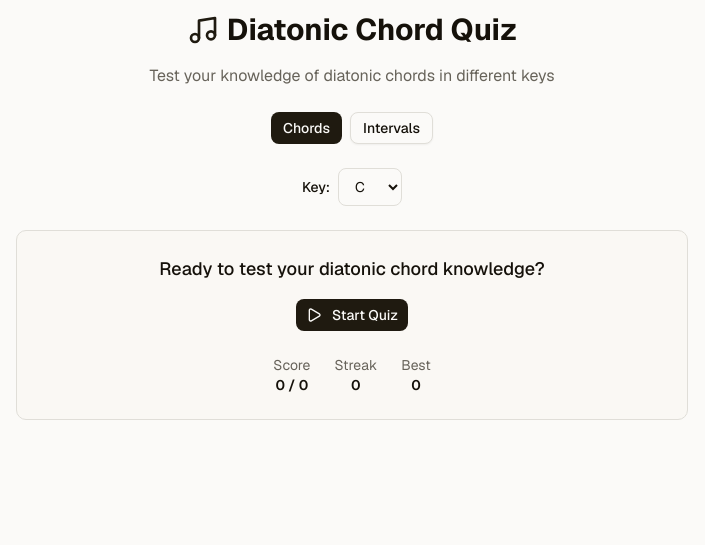
DiatonicQuiz › reset returns to idle state
The width and height of the screenshot is (705, 545).
Click the button with test id "start-btn": [352, 315] box [296,299,408,331]
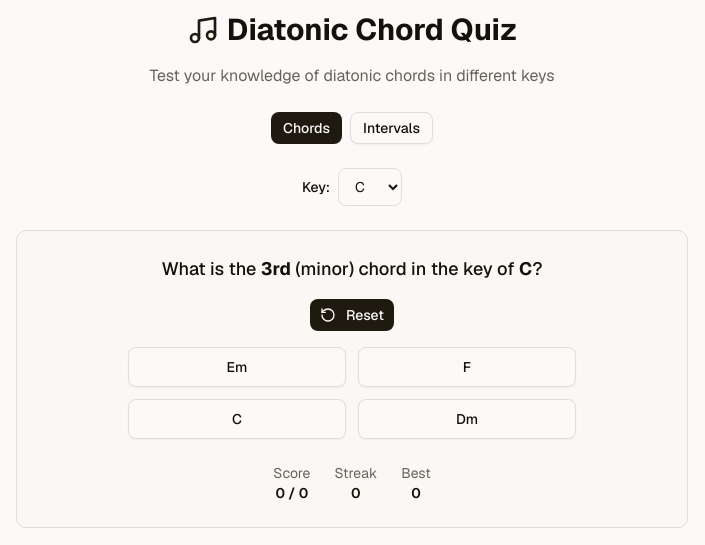
expect the button with test id "start-btn" reads "Reset": met
Click the button with test id "start-btn": [352, 315] box [310,299,394,331]
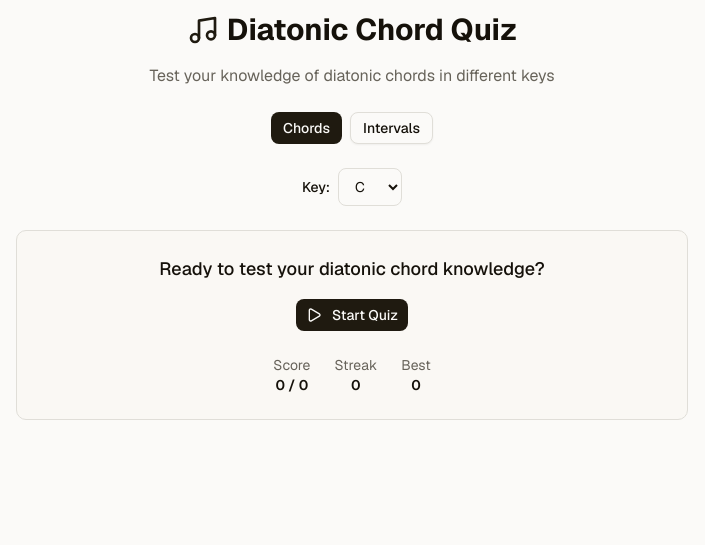
expect the text with test id "score-value" reads "0 / 0": met, box [273,375,310,395]
expect the button with test id "start-btn" reads "Start Quiz": met, box [296,299,408,331]
expect the text with test id "quiz-prompt" reads "Ready to test your diatonic chord knowledge?": met, box [159,257,545,280]
